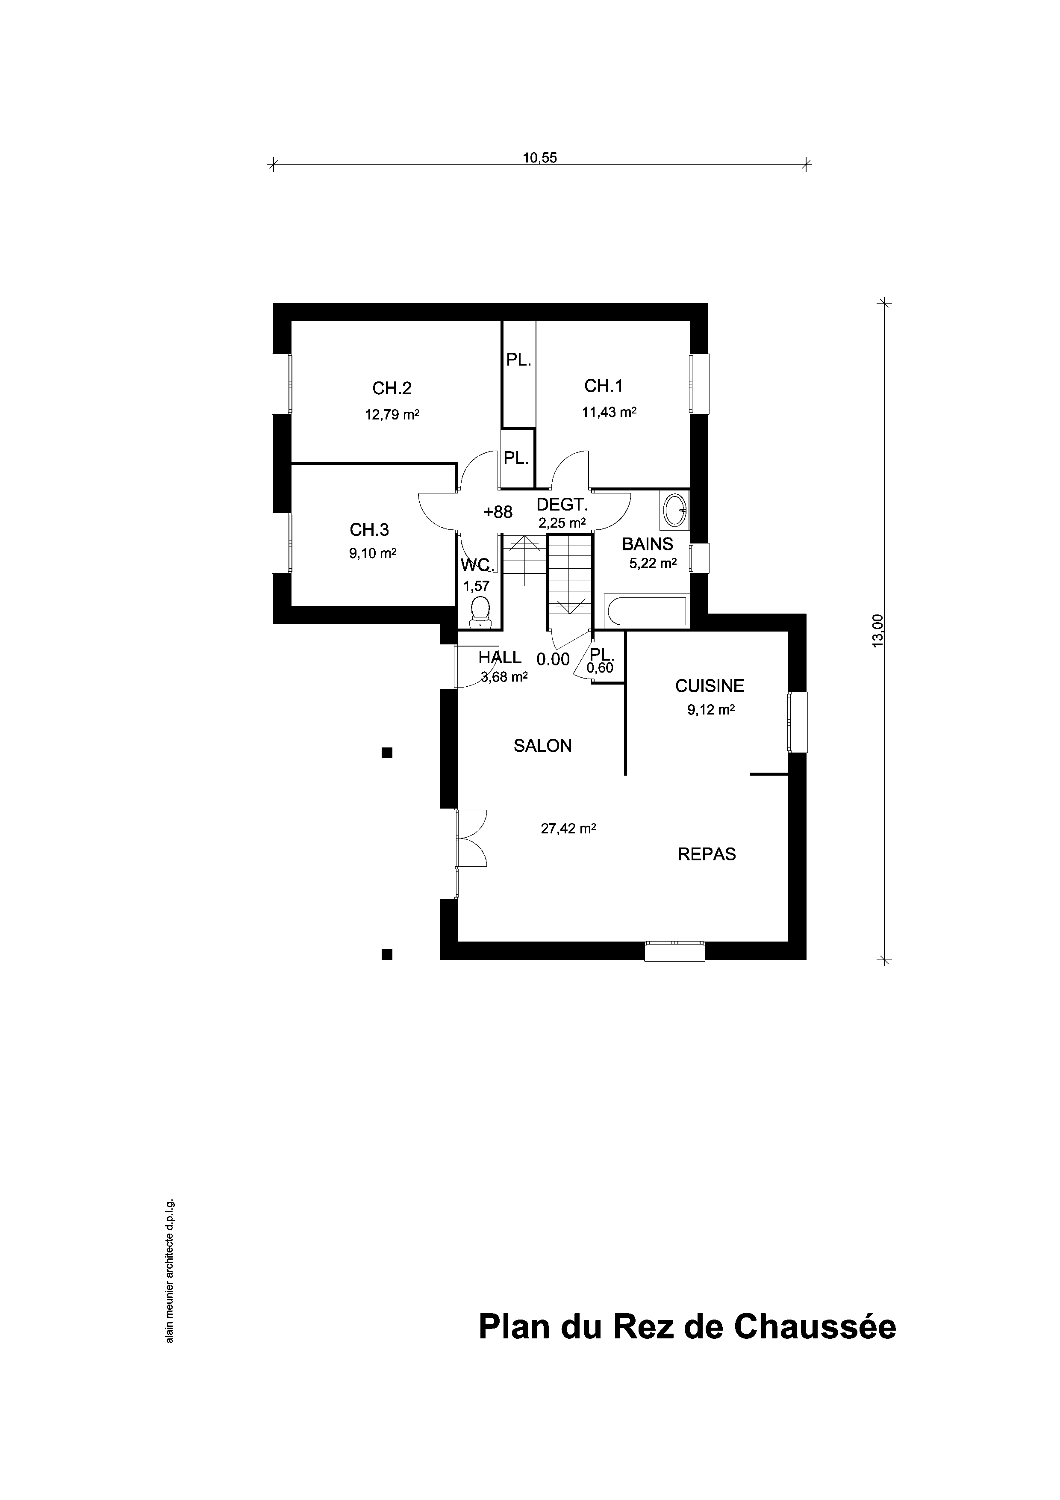bath tab: (605, 593, 689, 630)
ceramic sink: (658, 490, 689, 531)
door: (441, 643, 499, 690), (458, 450, 501, 492), (550, 450, 592, 492), (418, 490, 458, 534), (458, 533, 501, 573), (591, 490, 631, 533), (572, 639, 595, 683), (548, 628, 592, 651)
door-window: (439, 808, 488, 901)
toilet: (469, 596, 492, 628)
window: (272, 511, 293, 575), (689, 353, 710, 415), (644, 942, 706, 962), (787, 692, 808, 753), (272, 353, 293, 415), (689, 542, 710, 575)
